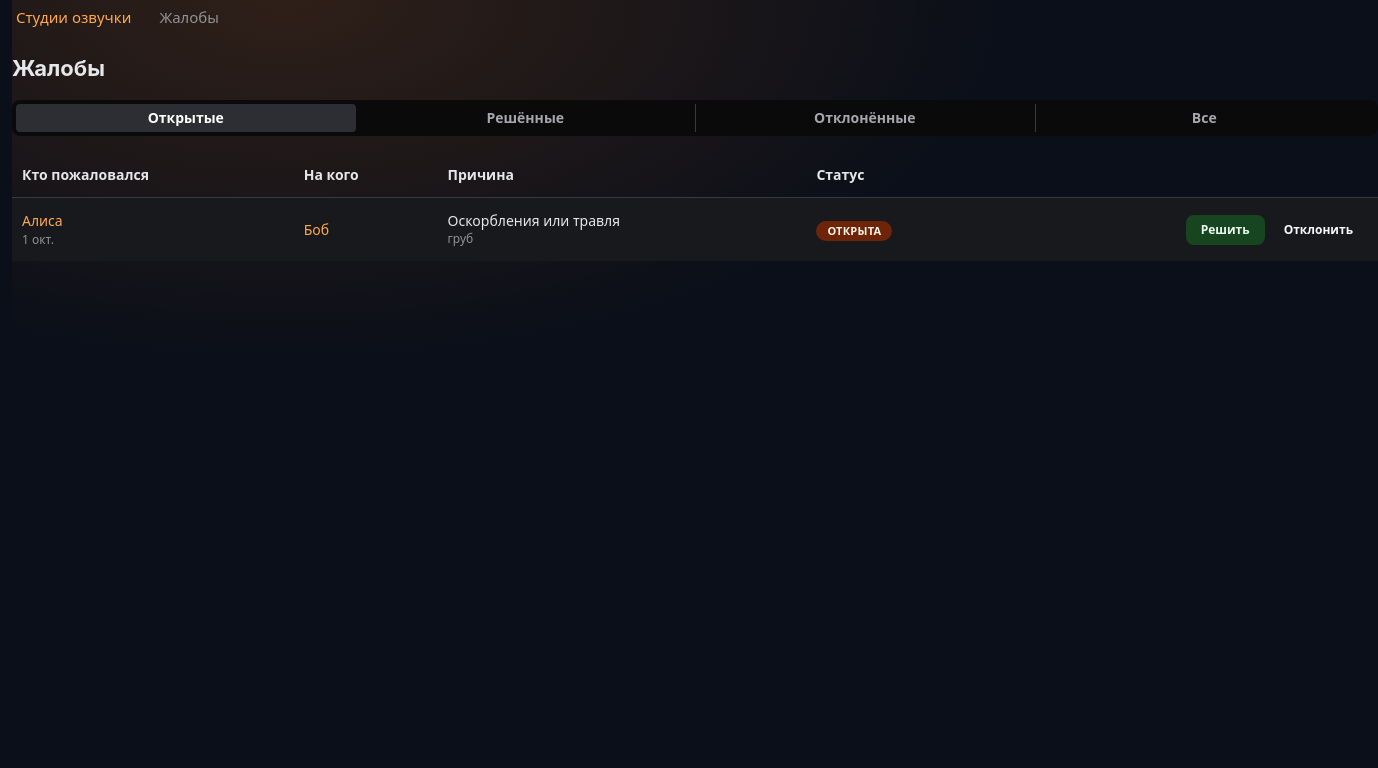
Scenario: ReportsPage › resolves an open report and refetches
The image size is (1378, 768).
Click the button "Решить".
click(1225, 230)  # box [1186, 215, 1265, 245]
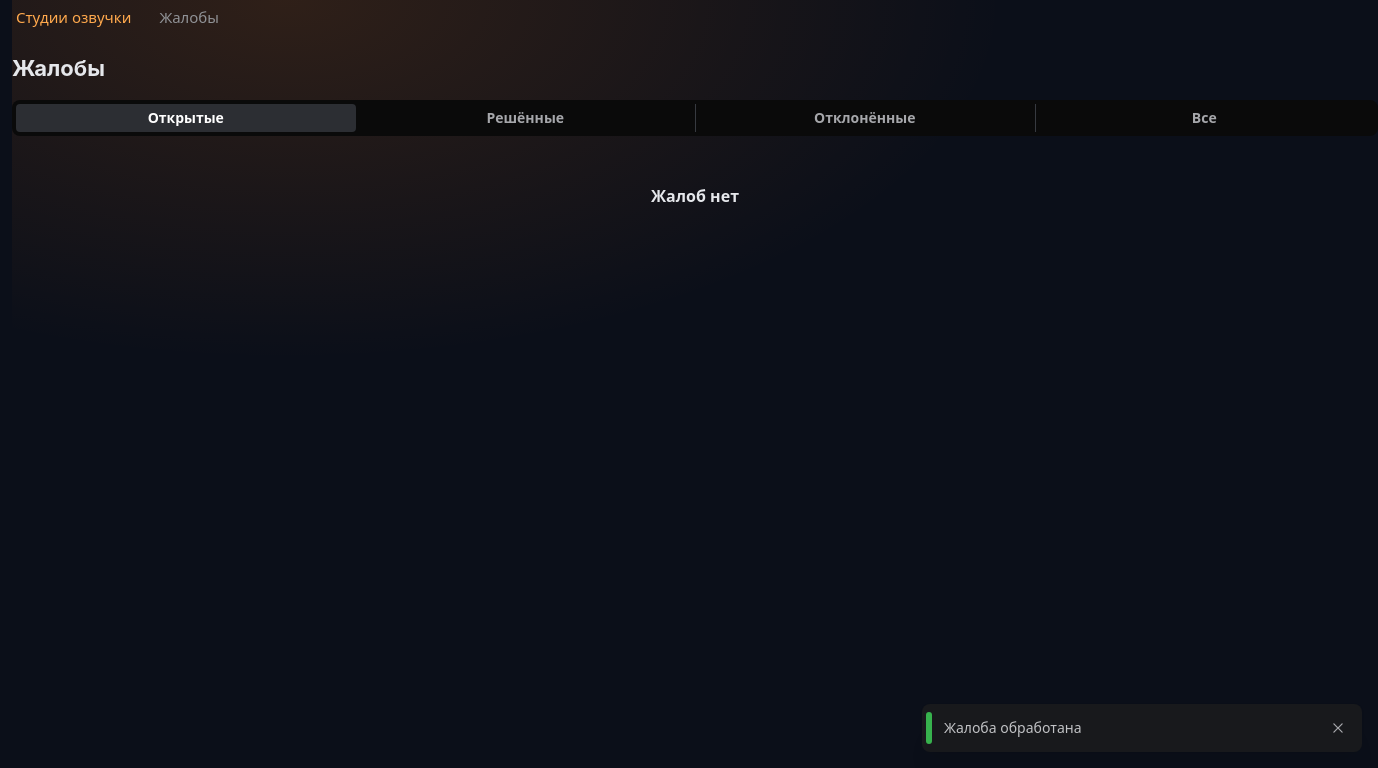
Check: the text "Жалоб нет" is shown, box [651, 184, 739, 208]
